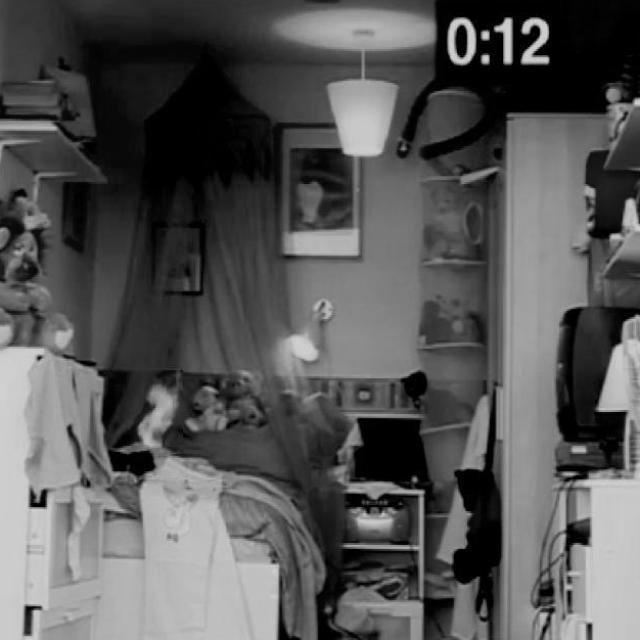smoke: (132, 369, 182, 456)
